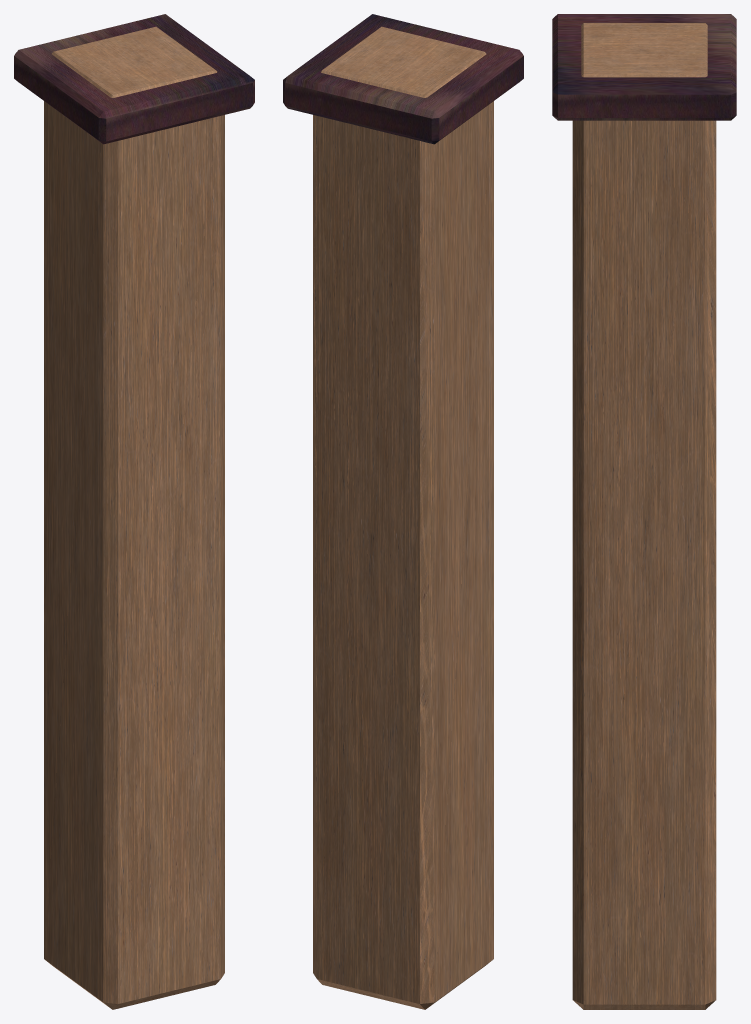
The model's file is pile28.obj.
3 renders of one model, left to right at view 1: azimuth 30°, elevation 25°; view 2: azimuth 150°, elevation 25°; view 3: azimuth 270°, elevation 25°, orthographic. The views are drawn at different scales.
Visible parts, largest first — view 1: Foundation_pile, Pile_cap; view 2: Foundation_pile, Pile_cap; view 3: Foundation_pile, Pile_cap.
Boxes of the visible parts, x1,y1,x2,y2 form: Foundation_pile: (44,26,224,1009); Pile_cap: (14,14,254,144); Foundation_pile: (313,26,493,1009); Pile_cap: (283,14,523,144); Foundation_pile: (572,23,716,1009); Pile_cap: (552,14,736,120).
Bounding box in the file's own units: 3.85 × 21.54 × 3.85.
Materials: 2 (2 with a texture image).
